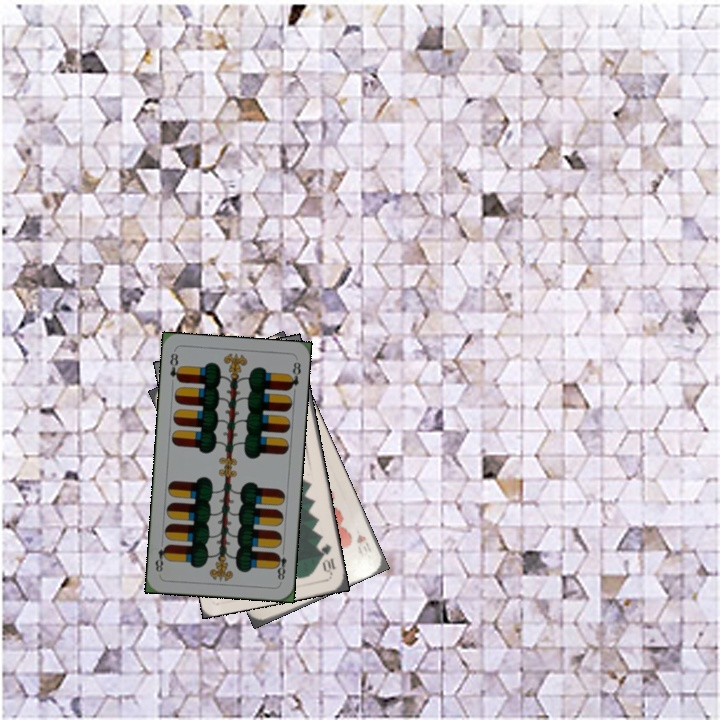E8: (271, 544, 289, 583), (165, 349, 184, 384)
G10: (317, 539, 338, 577)
H10: (352, 530, 374, 559)
